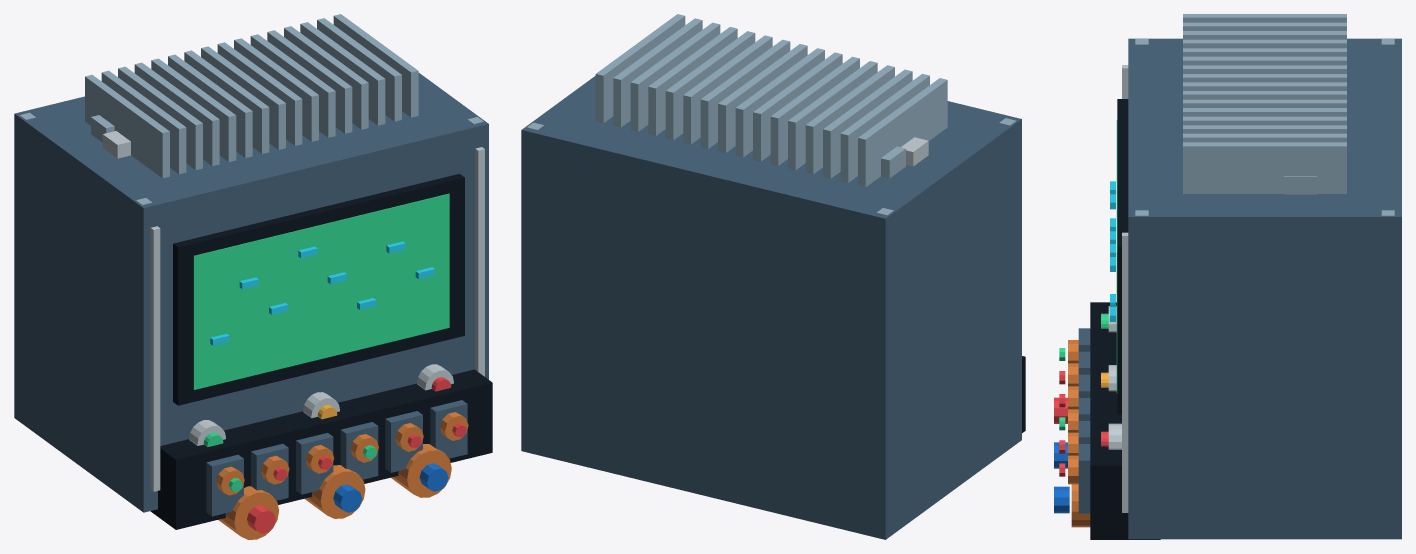
The model's file is 57_L75_Regulated5VControlSupply.fbx.
The picture shows the model from 3 angles, left to right: view 1: azimuth 30°, elevation 25°; view 2: azimuth 150°, elevation 25°; view 3: azimuth 270°, elevation 25°; orthographic projection. The views are drawn at different scales.
Parts seen in each view (by area): view 1: Regulated5VControlSupply; view 2: Regulated5VControlSupply; view 3: Regulated5VControlSupply.
Boxes of the visible parts, x1,y1,x2,y2 form: Regulated5VControlSupply: [14, 14, 492, 539]; Regulated5VControlSupply: [521, 14, 1025, 539]; Regulated5VControlSupply: [1054, 14, 1401, 539].
Size of the model in its own units: 108 by 113 by 89.
